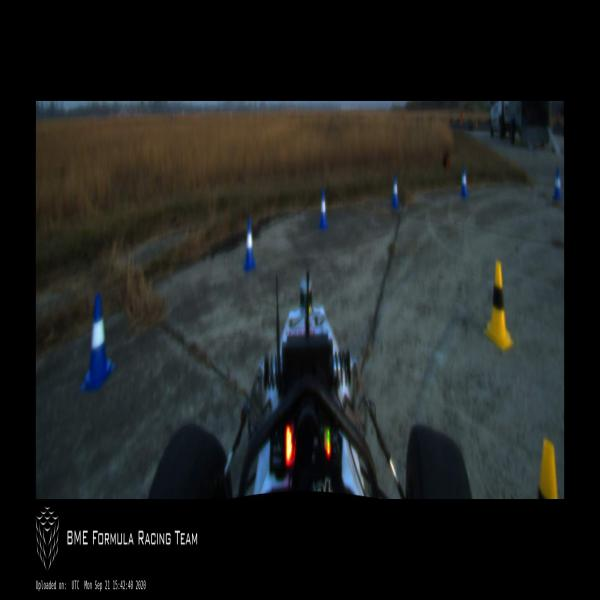blue_cone: (80, 295, 115, 392), (243, 216, 255, 274), (318, 187, 328, 231), (390, 174, 399, 210), (553, 167, 562, 202), (459, 167, 468, 198)
yellow_cone: (485, 262, 512, 352), (535, 439, 559, 499)
